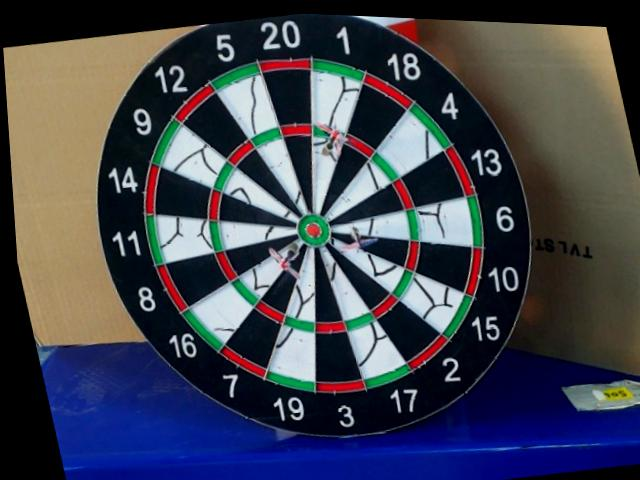single_1: (313, 143, 330, 193)
single_16: (240, 257, 282, 295), (279, 244, 290, 254)
single_6: (333, 213, 402, 241)
